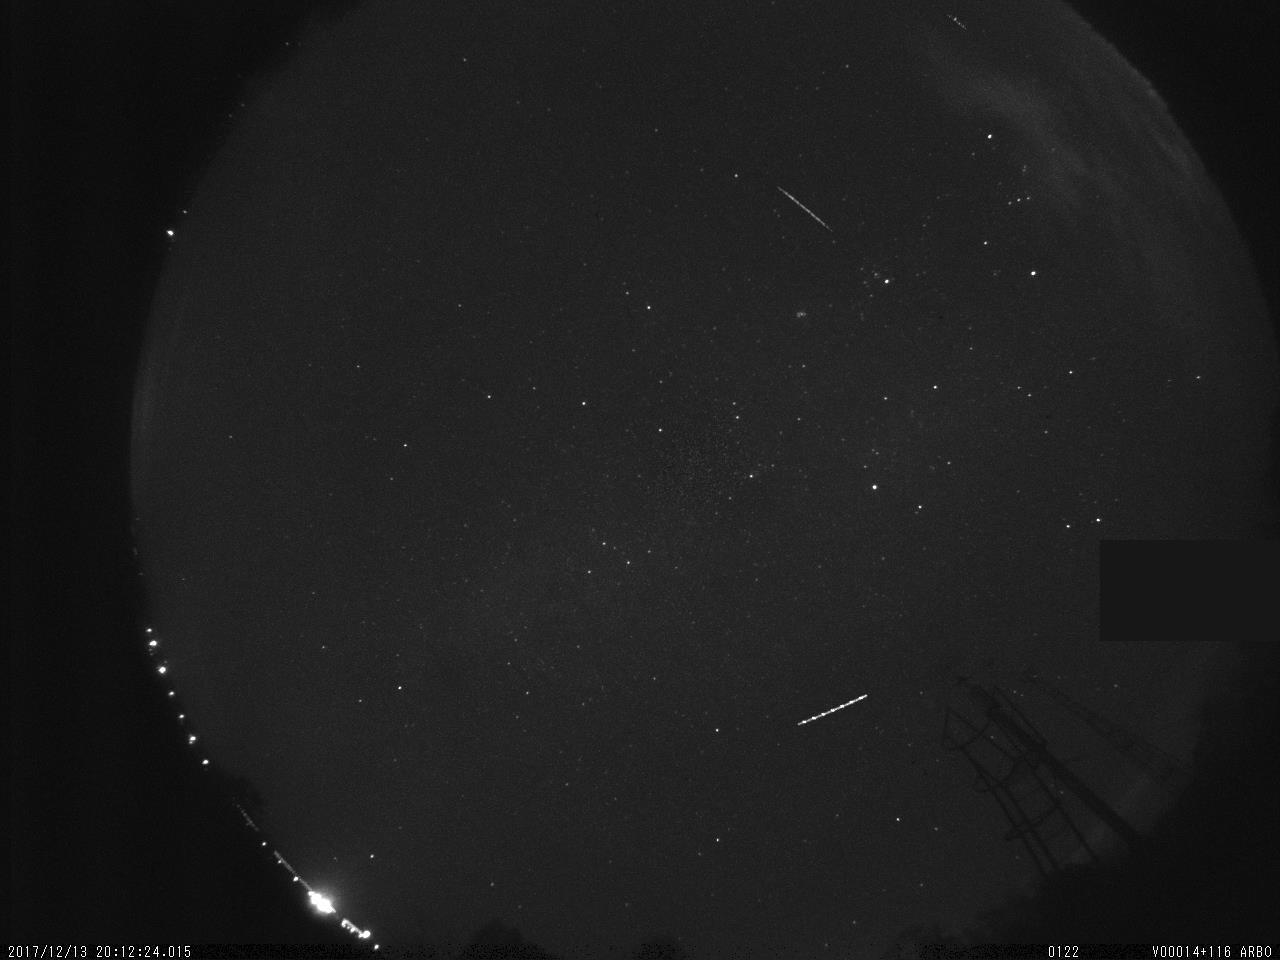meteor: (771, 177, 846, 238)
satelite: (788, 688, 872, 734), (938, 7, 975, 34)
